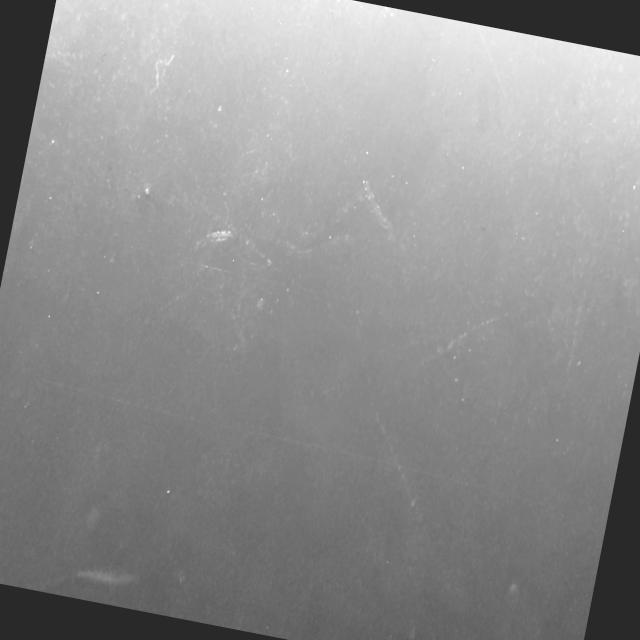beta: (336, 368, 464, 561), (408, 288, 520, 394), (232, 233, 328, 299), (450, 22, 525, 106), (146, 49, 178, 98), (44, 41, 90, 71), (369, 4, 403, 22)
